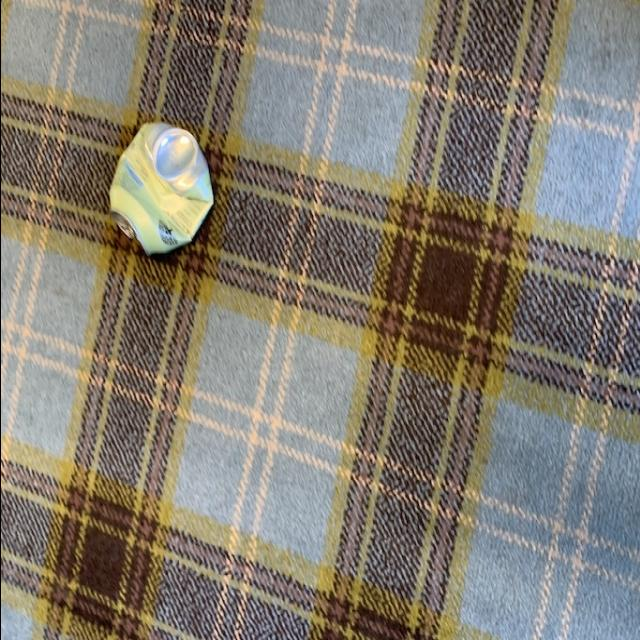litter: (105, 120, 210, 268)
